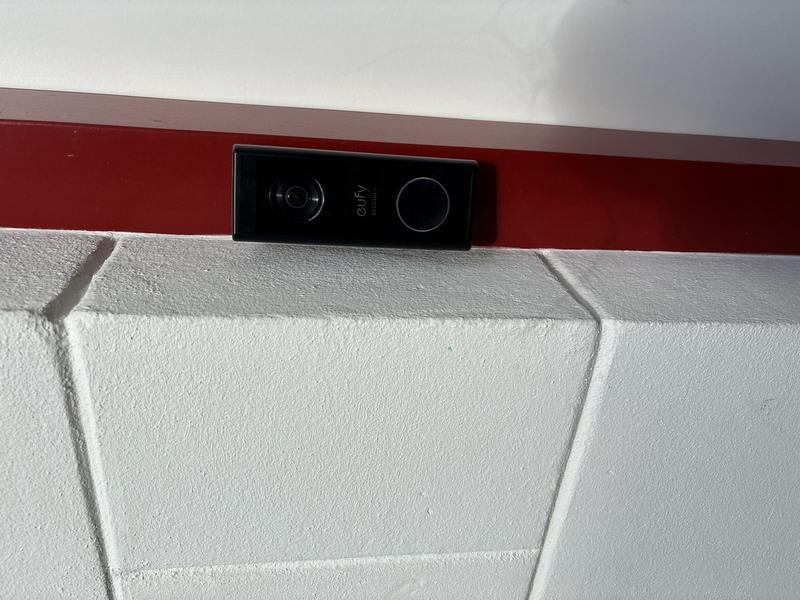doorbell: (344, 210, 456, 498)
